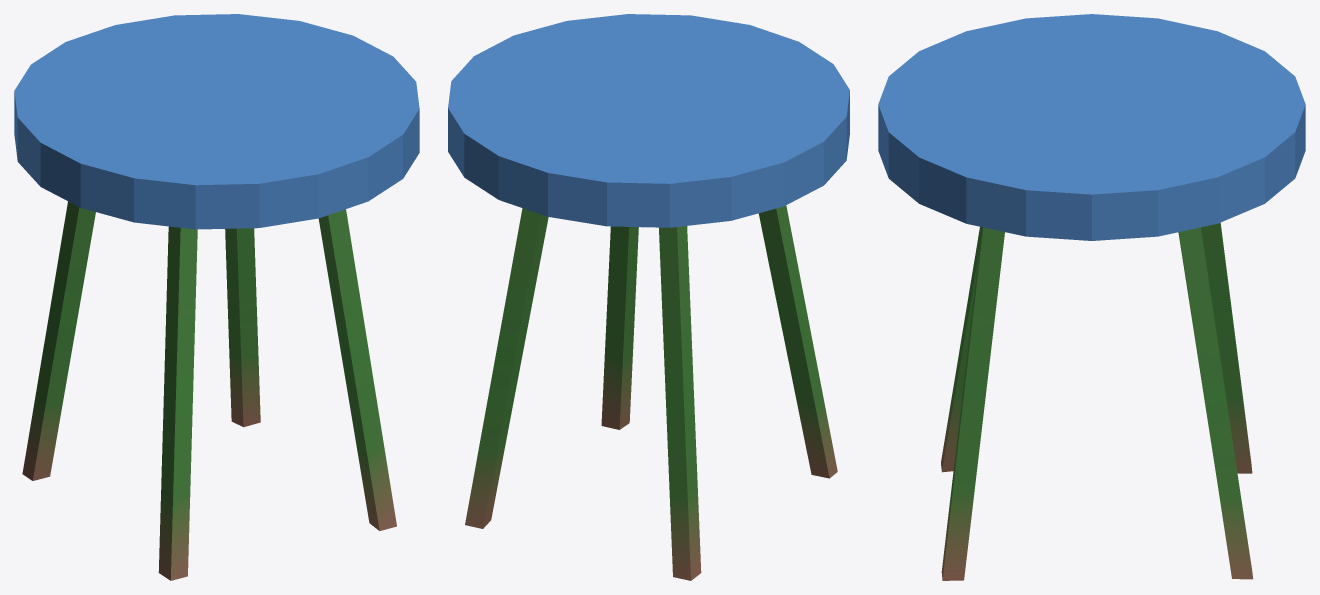
File: Bedroom_2_Table.fbx
The picture shows the model from 3 angles, left to right: view 1: azimuth 30°, elevation 25°; view 2: azimuth 150°, elevation 25°; view 3: azimuth 270°, elevation 25°; orthographic projection. The views are drawn at different scales.
Visible parts, largest first — view 1: Bedroom_2_Table; view 2: Bedroom_2_Table; view 3: Bedroom_2_Table.
Boxes of the visible parts, bbox=[...] form: Bedroom_2_Table: bbox=[14, 14, 419, 580]; Bedroom_2_Table: bbox=[448, 14, 849, 580]; Bedroom_2_Table: bbox=[878, 14, 1305, 580].
Bounding box in the file's own units: 72.3 × 78.59 × 72.3.
